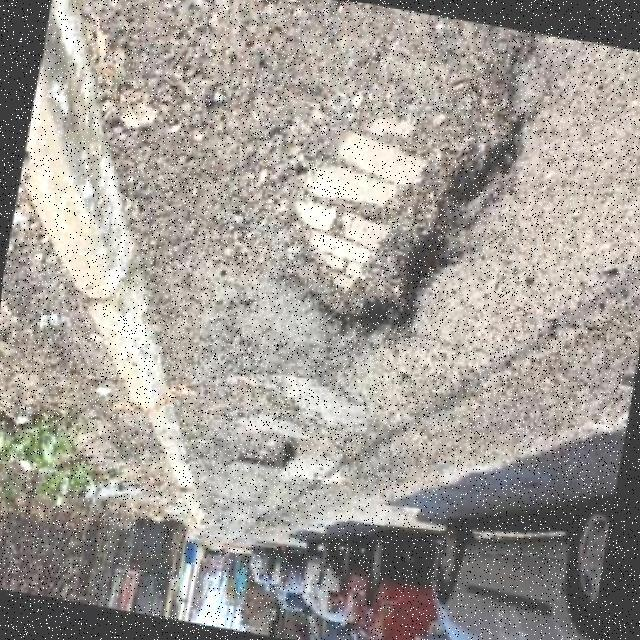Pothole: (293, 13, 565, 325), (235, 429, 296, 468)
